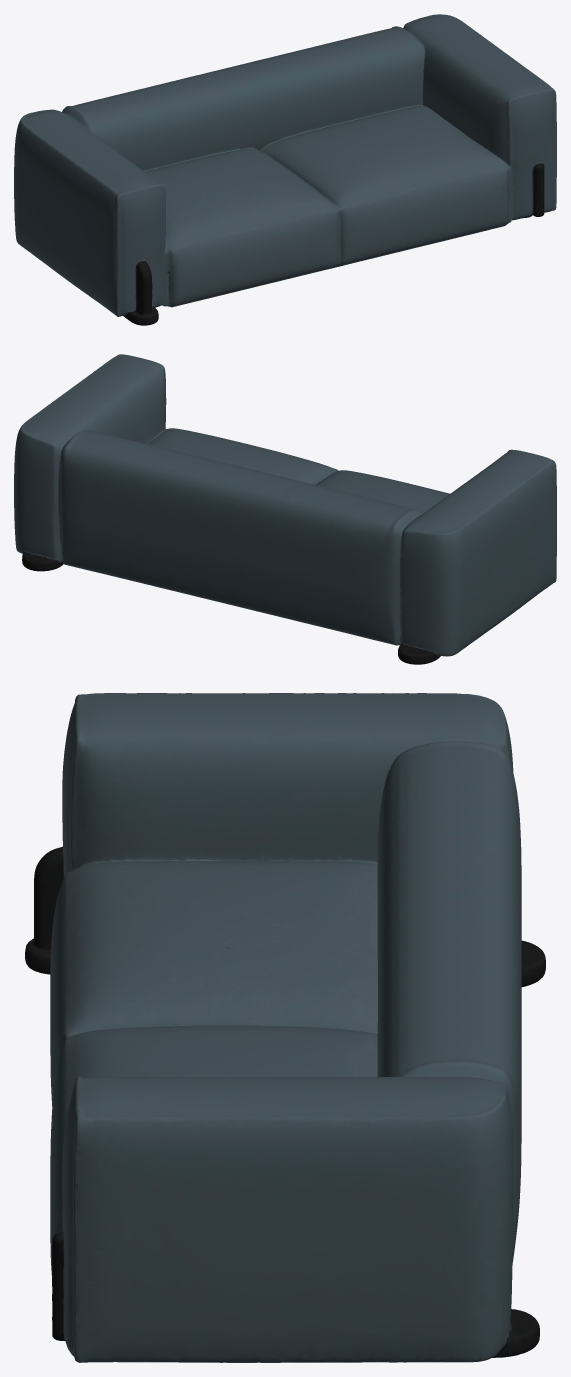
File: Modern Two-Seater Sofa with Integrated Cushions [jYfzHD].glb
3 renders of one model, top to bottom at view 1: azimuth 30°, elevation 25°; view 2: azimuth 150°, elevation 25°; view 3: azimuth 270°, elevation 25°, orthographic. The views are drawn at different scales.
Parts seen in each view (by area): view 1: world; view 2: world; view 3: world.
Part boxes in pixels (left/top/right/bottom): world: left=14, top=14, right=556, bottom=325; world: left=14, top=354, right=556, bottom=664; world: left=25, top=693, right=545, bottom=1362.
Size of the model in its own units: 1 by 0.2776 by 0.507.
1 material, 1 textured.
